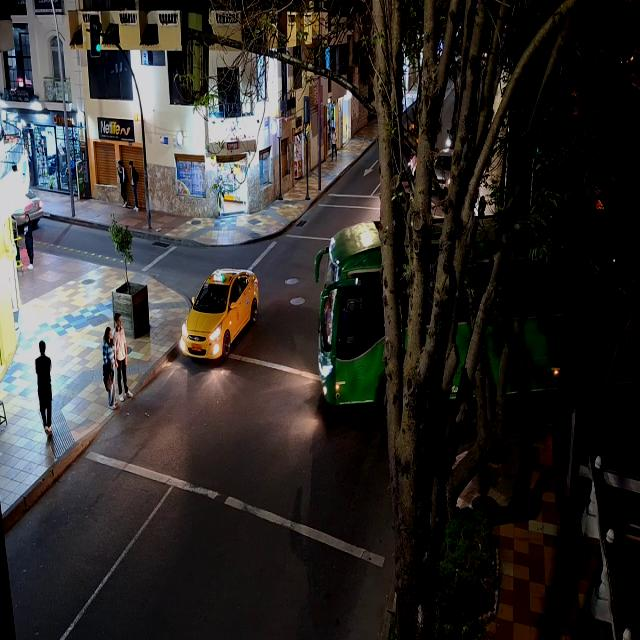BUS: (321, 224, 385, 407)
SED: (183, 269, 256, 358)
